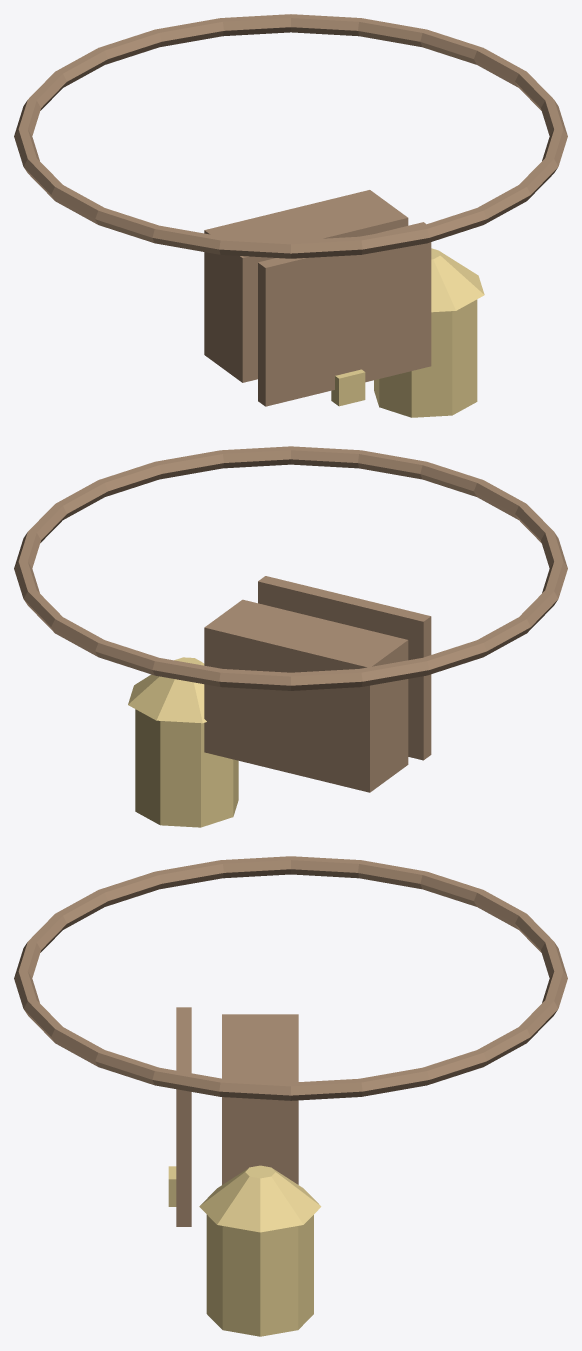
File: MiloSatchelAndLantern.fbx
3 views of the same model, one above another, from view 1: azimuth 30°, elevation 25°; view 2: azimuth 150°, elevation 25°; view 3: azimuth 270°, elevation 25° (orthographic).
Parts seen in each view (by area): view 1: MiloSatchelAndLantern; view 2: MiloSatchelAndLantern; view 3: MiloSatchelAndLantern.
Boxes of the visible parts, x1=… form: MiloSatchelAndLantern: x1=14, y1=14, x2=567, y2=417; MiloSatchelAndLantern: x1=14, y1=446, x2=567, y2=827; MiloSatchelAndLantern: x1=14, y1=856, x2=567, y2=1336.
Size of the model in its own units: 72.4 by 41.04 by 72.4.
